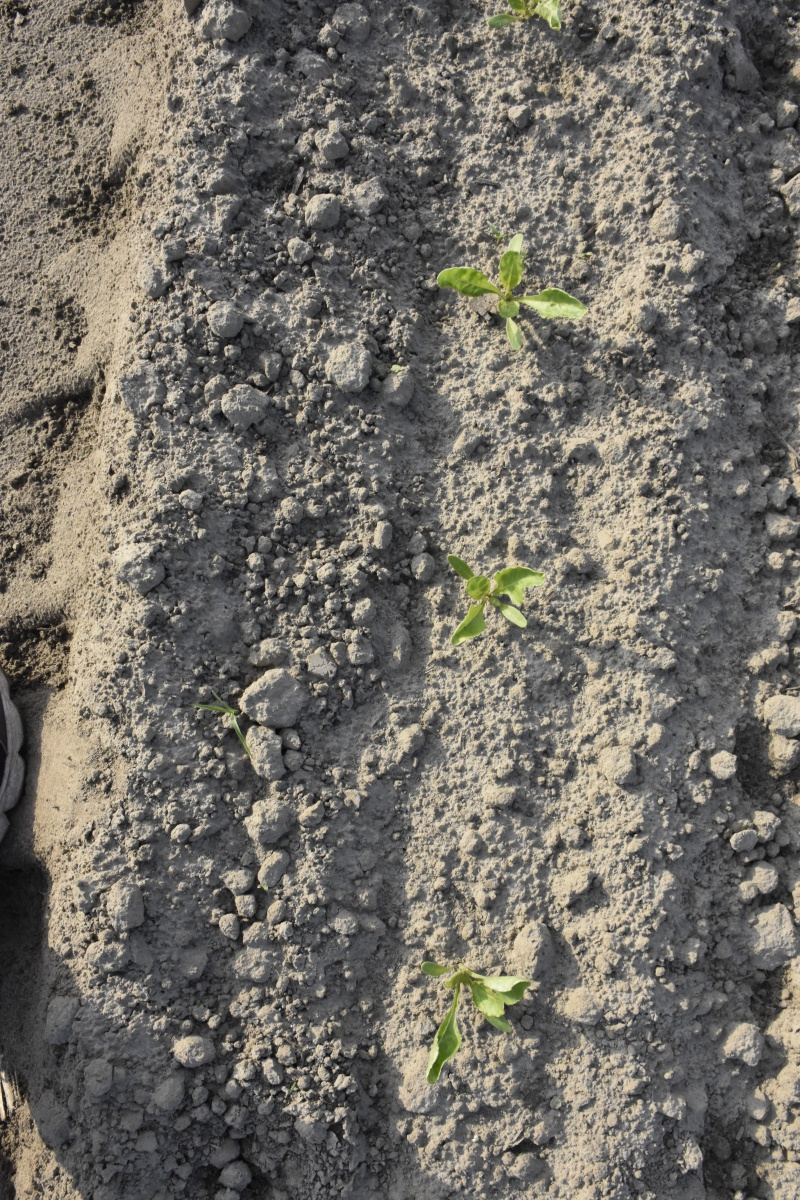sugar beet: (433, 231, 590, 354), (416, 952, 547, 1095), (437, 548, 553, 654)
